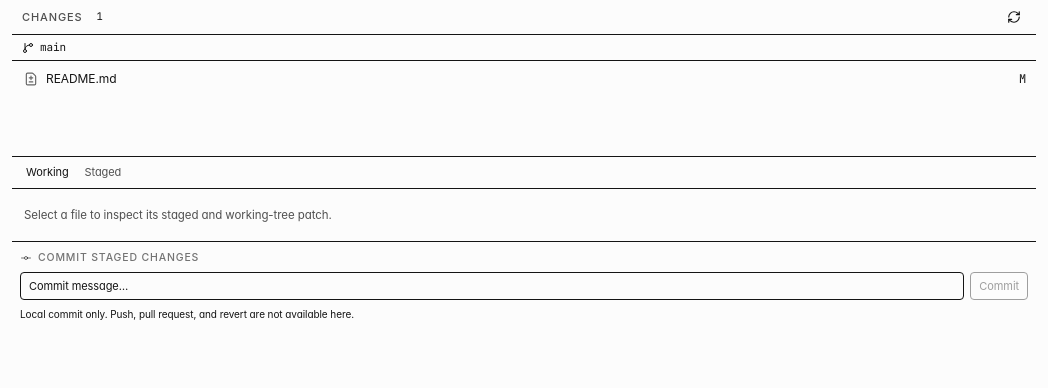
Test: WorkbenchChanges › refreshes the same repository after a failed staging attempt
Click the button "README.md M" at (81, 78), box 12,65 -> 1036,93
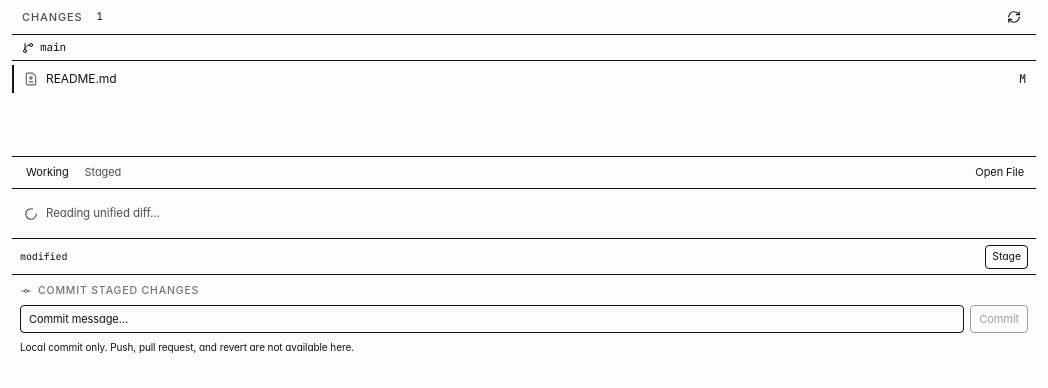
Click the button "Stage" at (1007, 257), box 985,245 -> 1028,269
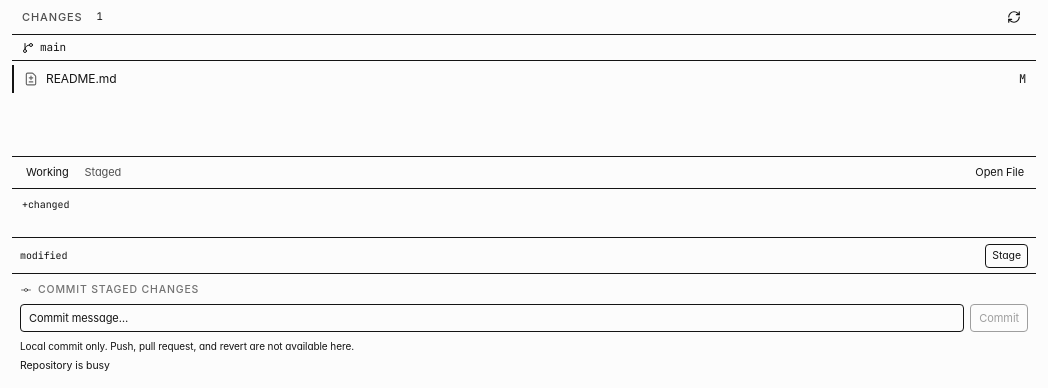
Now the message reads "Repository is busy", box 20,359 -> 110,372
